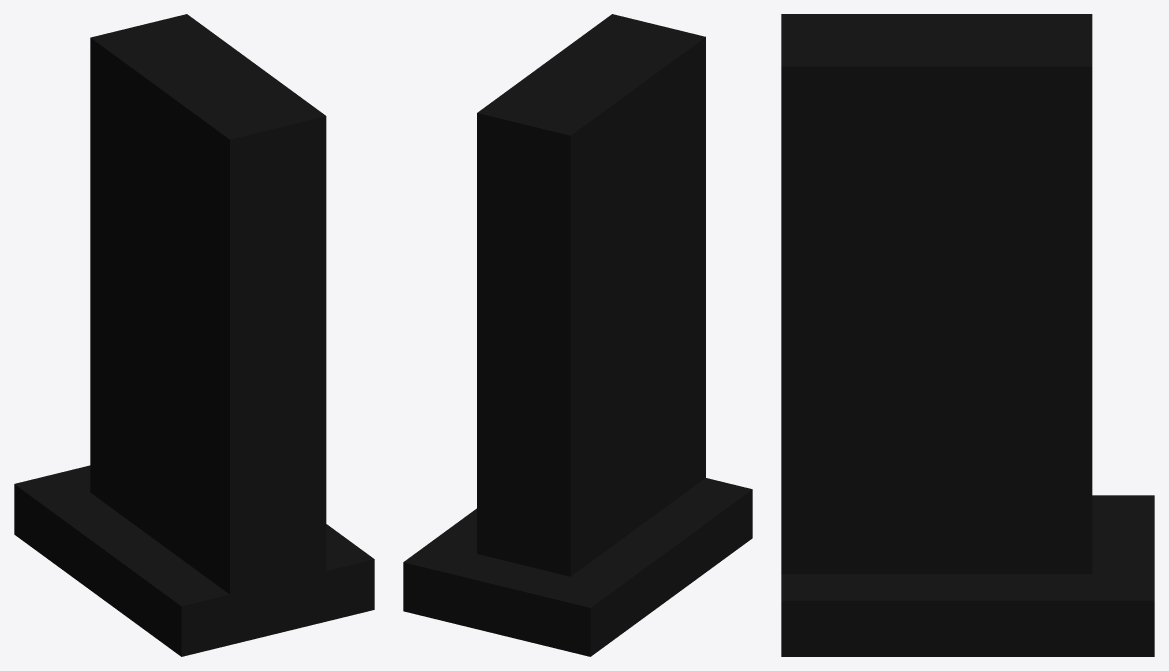
The model's file is M1911Clip.obj.
3 views of the same model, side by side, from view 1: azimuth 30°, elevation 25°; view 2: azimuth 150°, elevation 25°; view 3: azimuth 270°, elevation 25° (orthographic). The views are drawn at different scales.
Size of the model in its own units: 0.4 by 1 by 0.6.
Materials: 1 (1 with a texture image).
